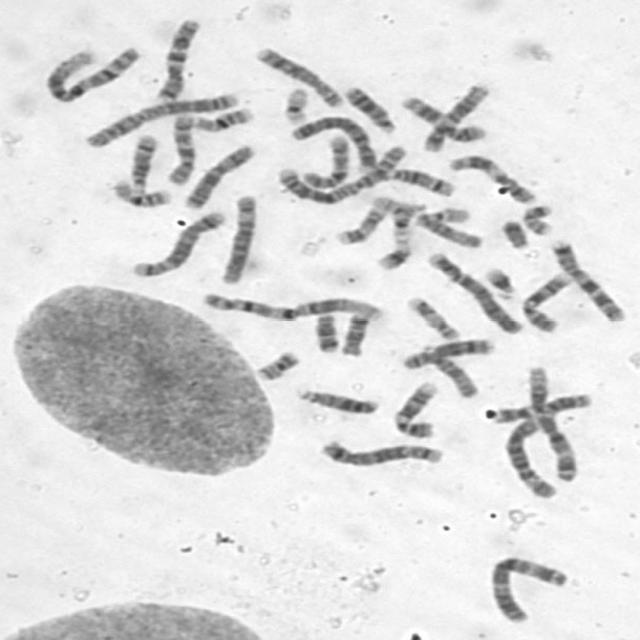A1: (196, 286, 389, 323), (39, 42, 144, 104)
A2: (80, 88, 243, 148), (271, 140, 410, 206)
A3: (524, 360, 584, 482), (484, 550, 572, 624)
B4: (423, 247, 527, 336), (285, 111, 384, 172)
B5: (127, 206, 229, 278), (315, 435, 446, 468)
C10: (297, 130, 353, 190), (162, 109, 200, 187)
C11: (444, 150, 539, 206), (395, 91, 488, 144)
C12: (418, 80, 493, 152), (488, 388, 597, 424)
C6: (500, 413, 562, 500), (215, 189, 260, 285)
C7: (546, 235, 630, 323), (150, 13, 205, 104)
C8: (250, 41, 347, 110), (398, 333, 498, 371)
C9: (517, 268, 574, 333), (388, 377, 441, 440)
D13: (339, 81, 399, 134), (292, 384, 382, 416)
D14: (379, 162, 458, 198), (124, 129, 160, 191)
D15: (418, 344, 482, 399), (409, 209, 486, 249)
E16: (107, 175, 174, 210), (187, 101, 257, 134)
E17: (402, 292, 463, 341), (332, 201, 391, 246)
E18: (336, 308, 372, 358), (310, 308, 342, 354)
F19: (278, 84, 312, 125), (386, 206, 413, 240)
F20: (251, 346, 303, 382), (517, 201, 557, 237)
G21: (478, 262, 520, 299), (372, 237, 414, 272)
G22: (410, 202, 473, 226), (368, 191, 428, 215)
X: (178, 140, 258, 210)
Y: (496, 215, 532, 250)
